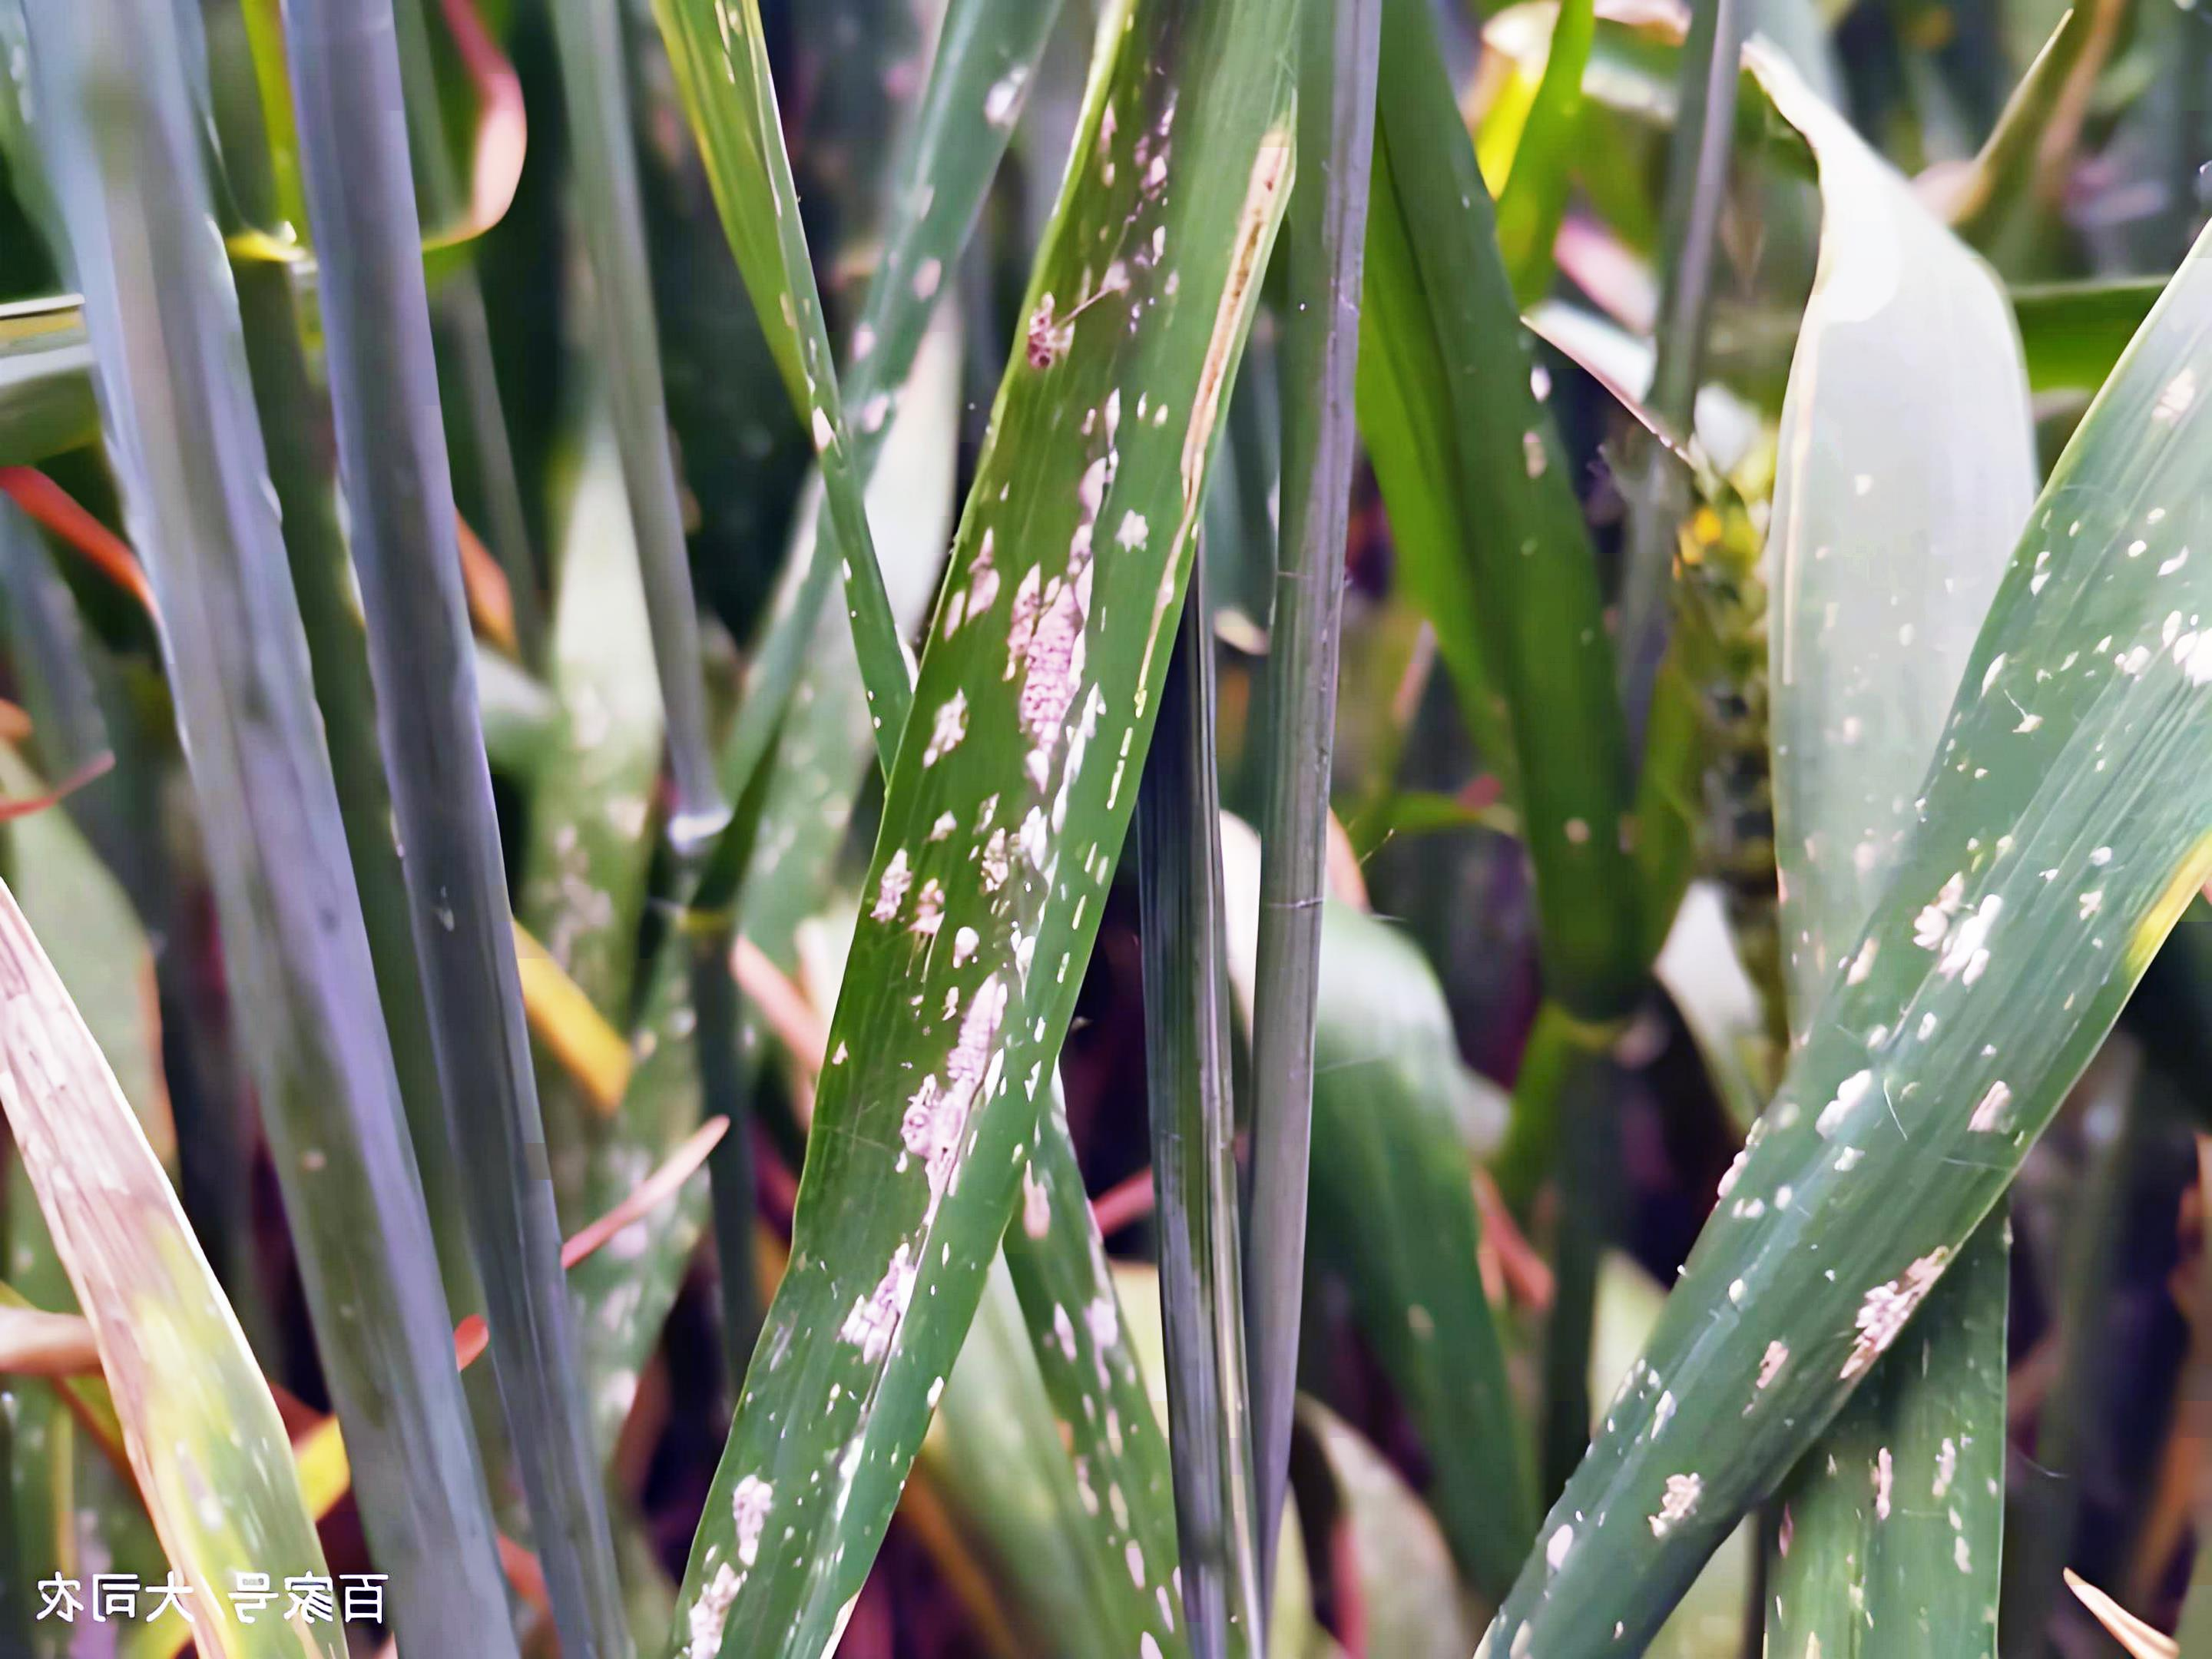Powdery Mildew: (745, 272, 1219, 1535), (1594, 610, 2212, 1546)
